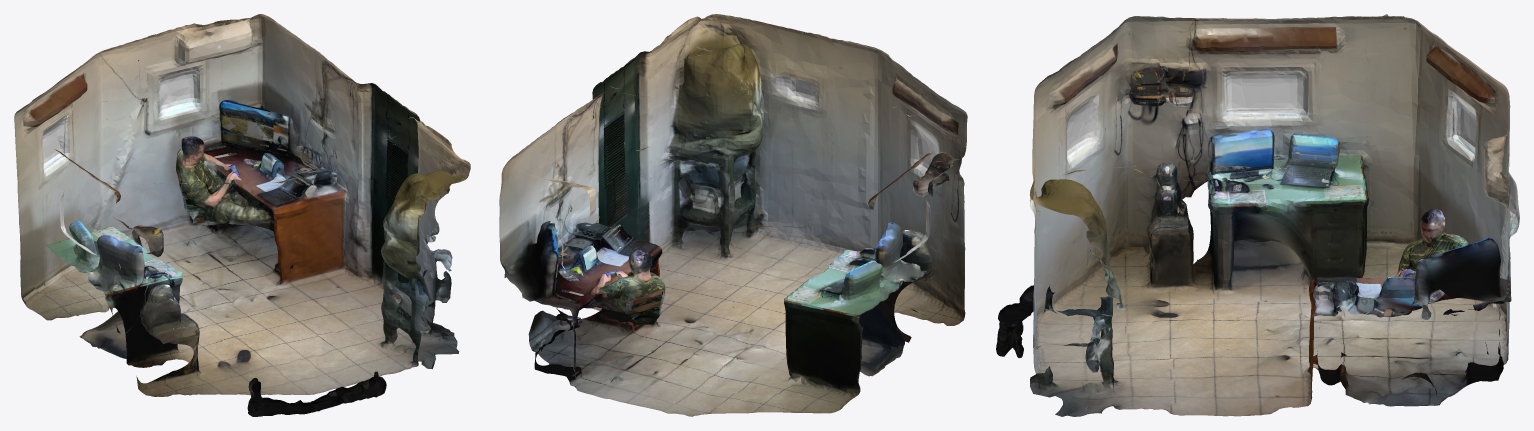
The model's file is input.glb.
3 renders of one model, left to right at view 1: azimuth 30°, elevation 25°; view 2: azimuth 150°, elevation 25°; view 3: azimuth 270°, elevation 25°, orthographic. The views are drawn at different scales.
Size of the model in its own units: 3.17 by 2.1 by 4.03.
Materials: 2 (2 with a texture image).
